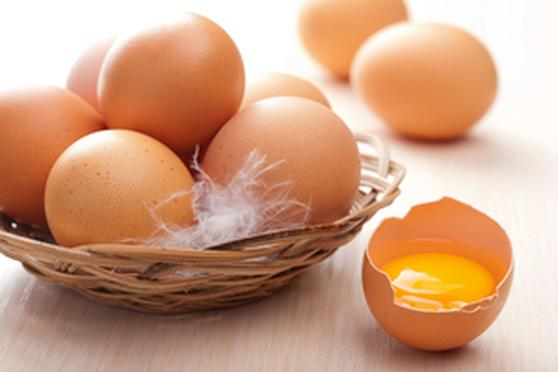egg: (206, 97, 357, 230), (100, 12, 242, 147), (353, 21, 500, 143)
